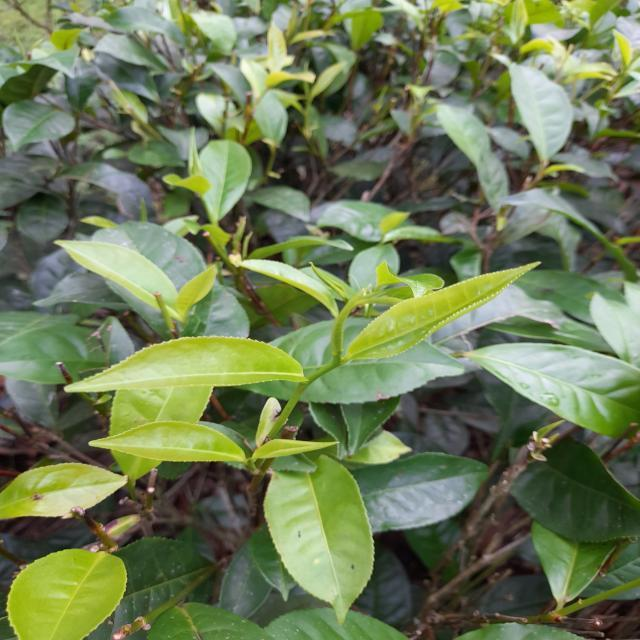Stem: (333, 352, 342, 364)
